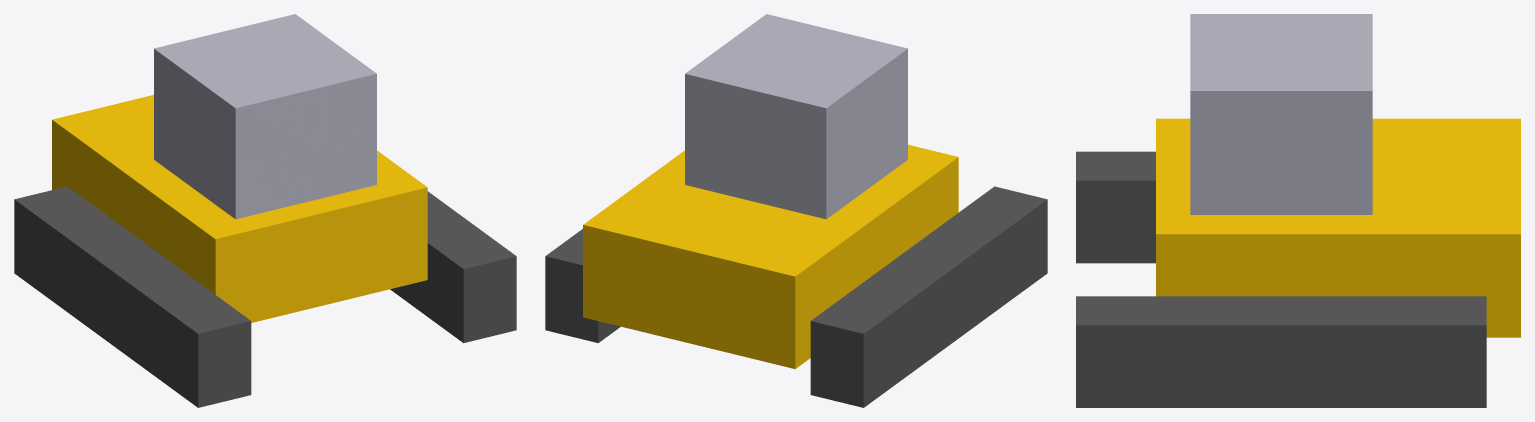
Rendered from bulldozer_blender.glb.
3 renders of one model, left to right at view 1: azimuth 30°, elevation 25°; view 2: azimuth 150°, elevation 25°; view 3: azimuth 270°, elevation 25°, orthographic. The views are drawn at different scales.
Parts seen in each view (by area): view 1: Body, Cabin, Track_L, Track_R; view 2: Body, Cabin, Track_L, Track_R; view 3: Body, Track_R, Cabin, Track_L.
Boxes of the visible parts, left/top/right/bottom form: Body: left=52, top=95, right=427, bottom=322; Cabin: left=154, top=14, right=376, bottom=219; Track_L: left=14, top=186, right=251, bottom=407; Track_R: left=390, top=191, right=516, bottom=343; Body: left=583, top=144, right=958, bottom=368; Cabin: left=685, top=14, right=907, bottom=219; Track_L: left=810, top=186, right=1047, bottom=407; Track_R: left=545, top=229, right=620, bottom=343; Body: left=1156, top=118, right=1520, bottom=337; Track_R: left=1076, top=296, right=1486, bottom=407; Cabin: left=1190, top=14, right=1372, bottom=214; Track_L: left=1076, top=151, right=1155, bottom=263.
Size of the model in its own units: 18 by 13 by 19.5.
